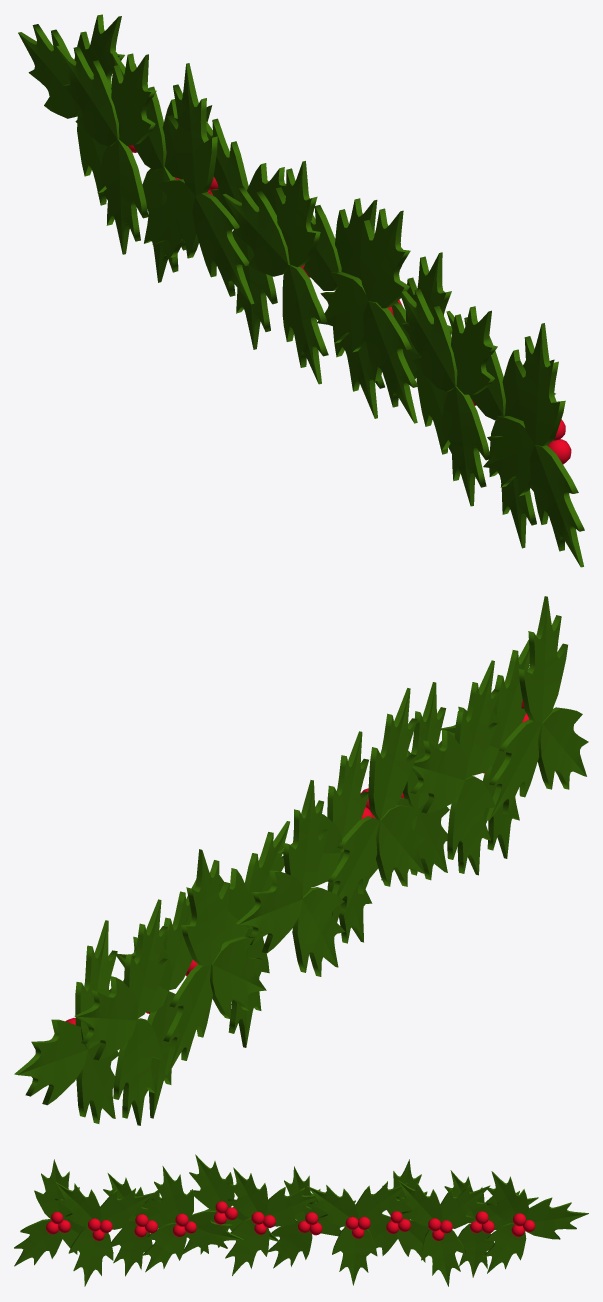
File: Christmass_Decor.glb
3 views of the same model, one above another, from view 1: azimuth 30°, elevation 25°; view 2: azimuth 150°, elevation 25°; view 3: azimuth 270°, elevation 25° (orthographic). The views are drawn at different scales.
Visible parts, largest first — view 1: Christmas_decor; view 2: Christmas_decor; view 3: Christmas_decor.
Boxes of the visible parts, x1,y1,x2,y2 form: Christmas_decor: (18, 14, 584, 567); Christmas_decor: (14, 596, 588, 1125); Christmas_decor: (14, 1154, 588, 1286).
Bounding box in the file's own units: 0.0691 × 0.4489 × 1.8.
